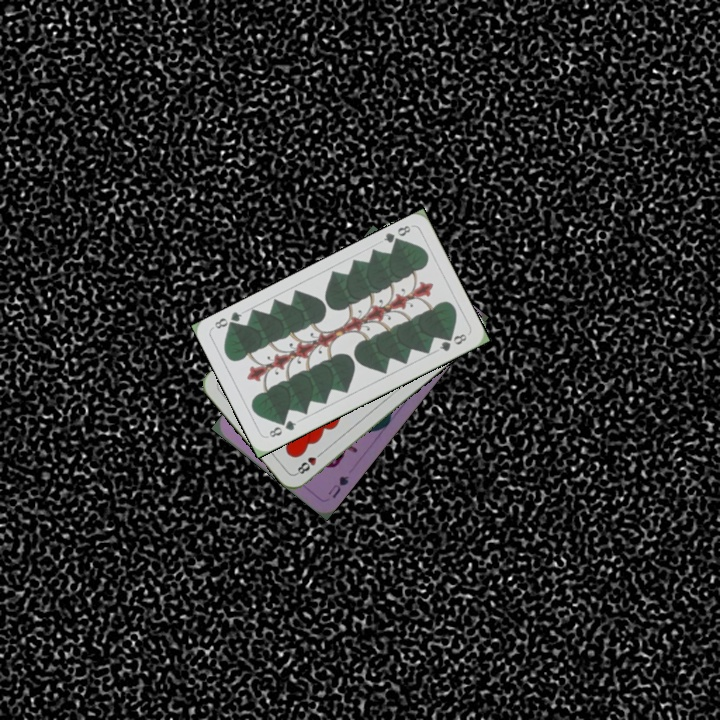G8: (379, 221, 413, 249), (265, 416, 299, 440)
GU: (324, 471, 351, 501)
H8: (292, 447, 326, 477)
